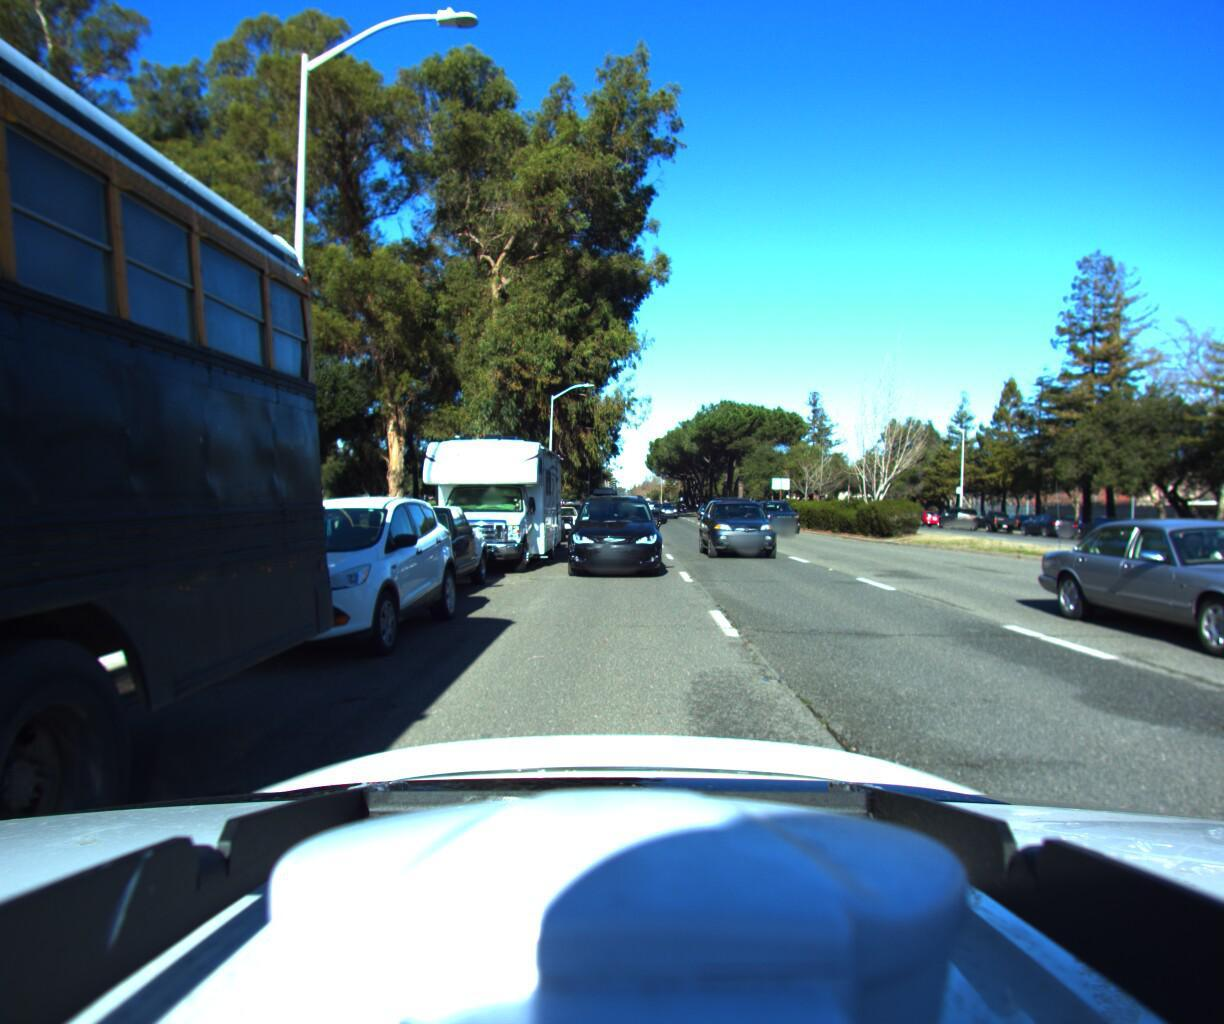car: (166, 489, 473, 684), (1083, 506, 1224, 725), (328, 501, 498, 614), (565, 490, 662, 583), (699, 490, 795, 562), (1126, 514, 1222, 549), (500, 508, 566, 556), (1074, 507, 1156, 544), (1018, 509, 1085, 539), (756, 500, 812, 534), (971, 507, 1024, 533), (542, 505, 584, 536), (937, 504, 985, 528), (555, 498, 589, 531), (1207, 513, 1224, 561), (910, 507, 948, 526), (658, 499, 679, 518)
other_vehicle: (408, 418, 569, 579)
